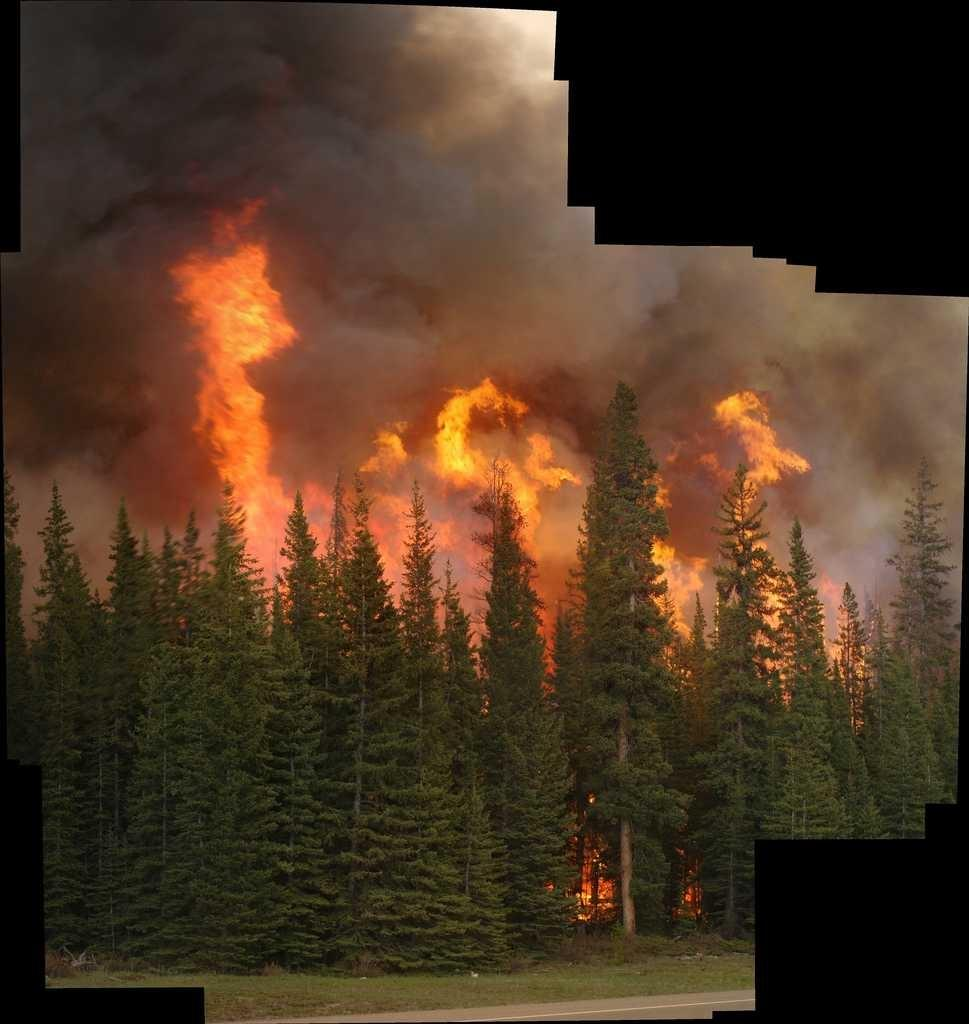fire: (171, 234, 317, 533), (384, 384, 573, 517), (687, 404, 797, 557)
